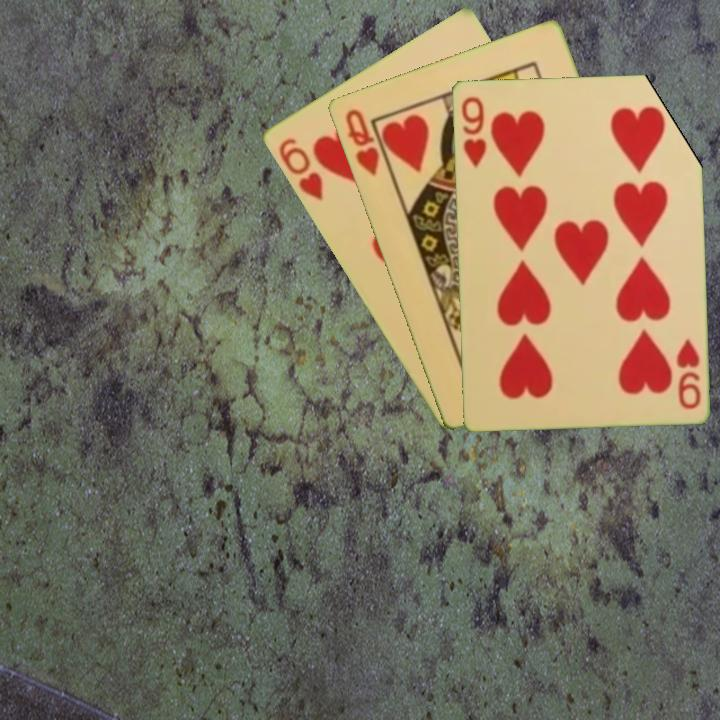6h: (274, 134, 326, 204)
9h: (672, 335, 703, 412), (458, 93, 488, 171)
Qh: (341, 105, 382, 178)
